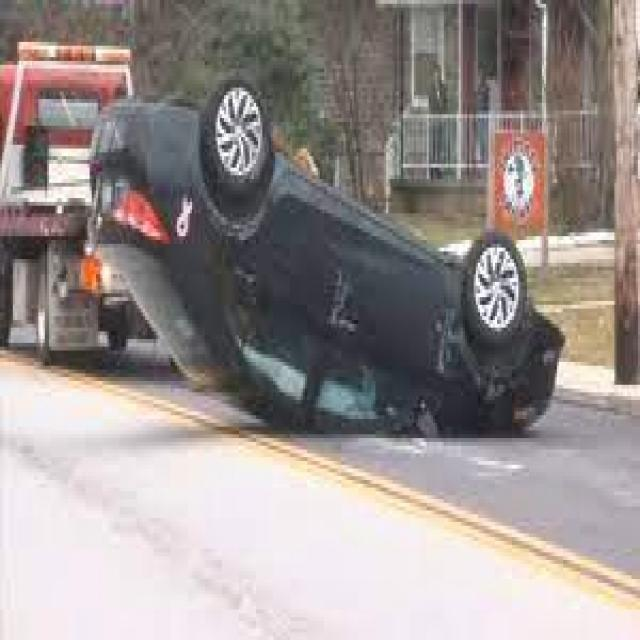severe: (82, 76, 569, 454)
